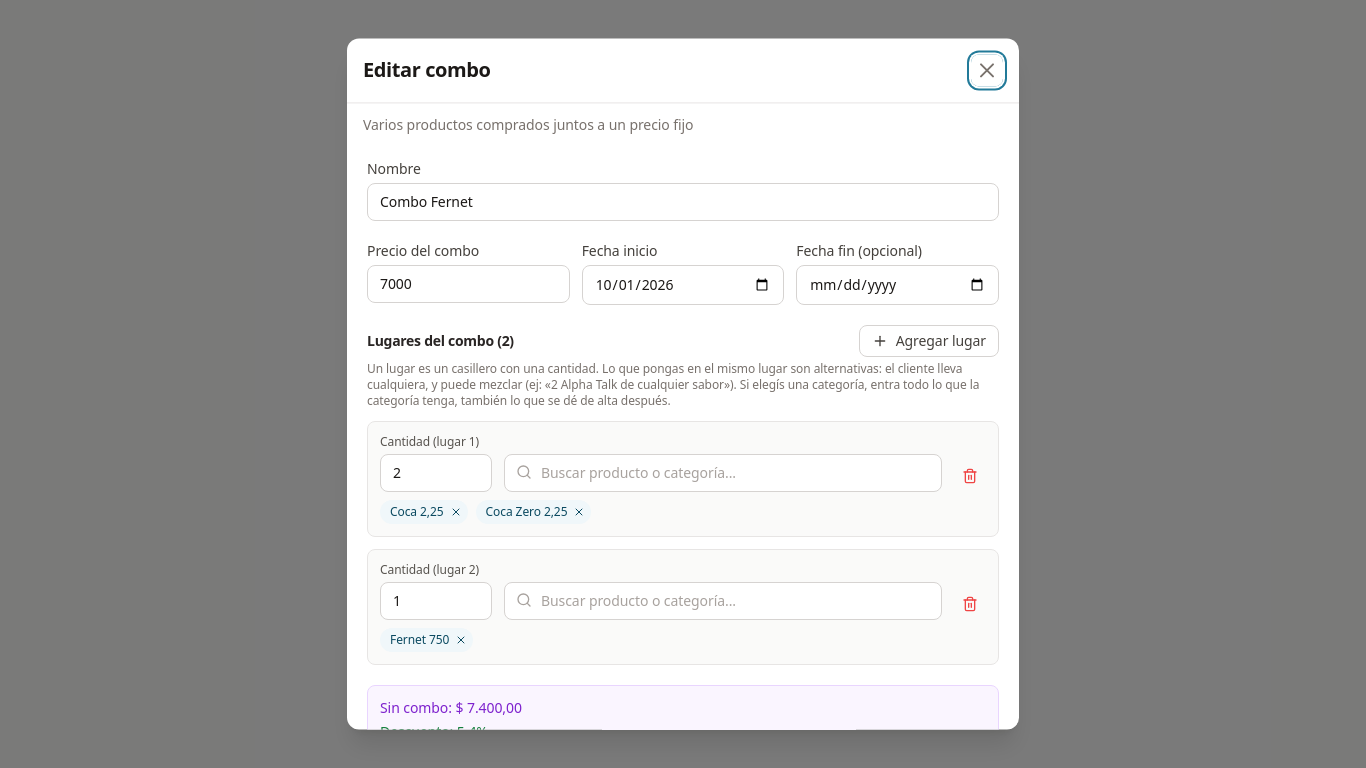
Test case: ModalCombo · vista previa › sin precio no muestra descuento ni advertencia
Clear the field labelled "Precio del combo": (468,284) [367,265,570,303]
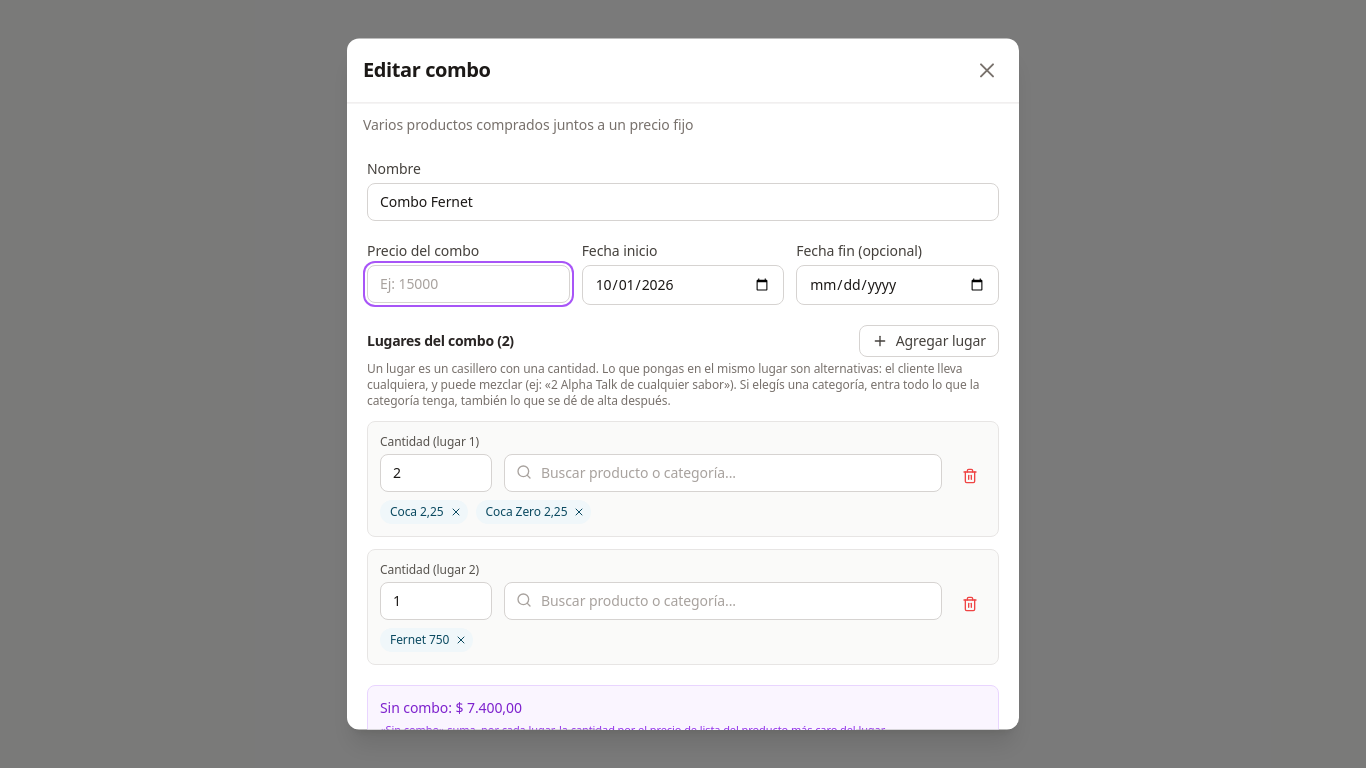
Expected: the text with test id "combo-descuento" is gone
